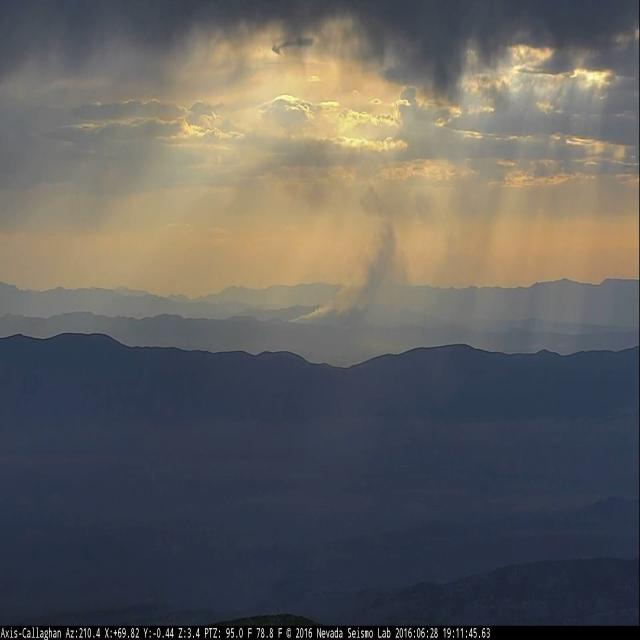smoke: (289, 218, 404, 326)
